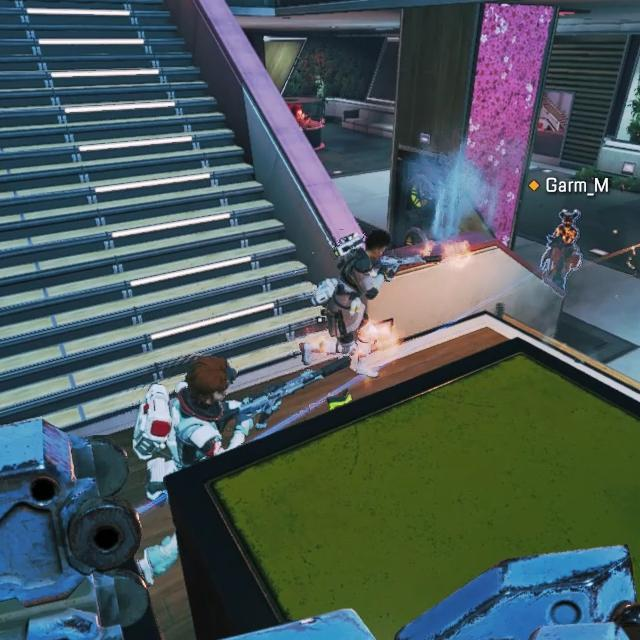avatar: (310, 229, 394, 356), (543, 207, 584, 287)
